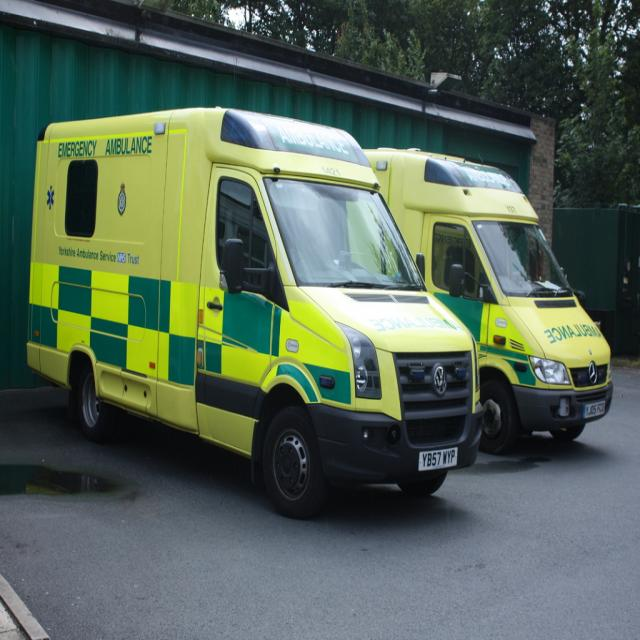Ambulance: (26, 104, 487, 521), (346, 142, 616, 456)
